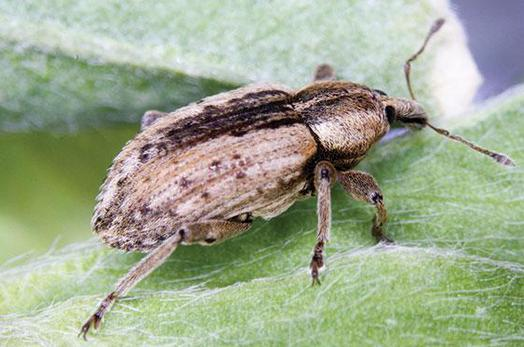weevils: (30, 7, 524, 347)
